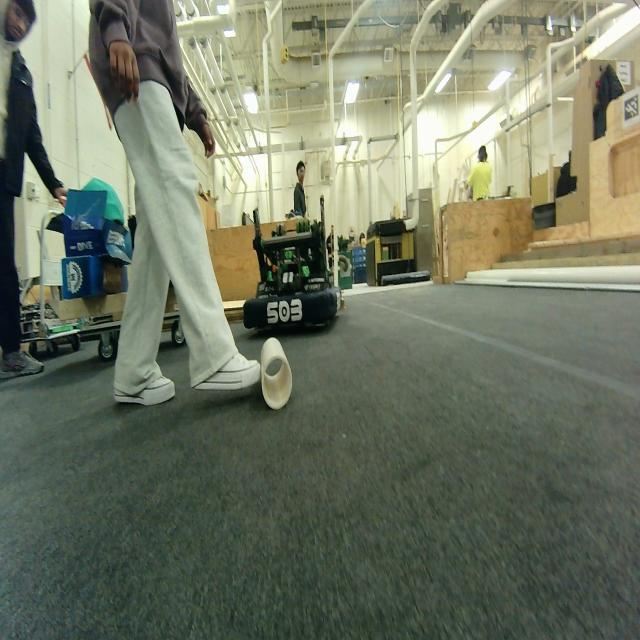coral: (259, 335, 292, 411)
